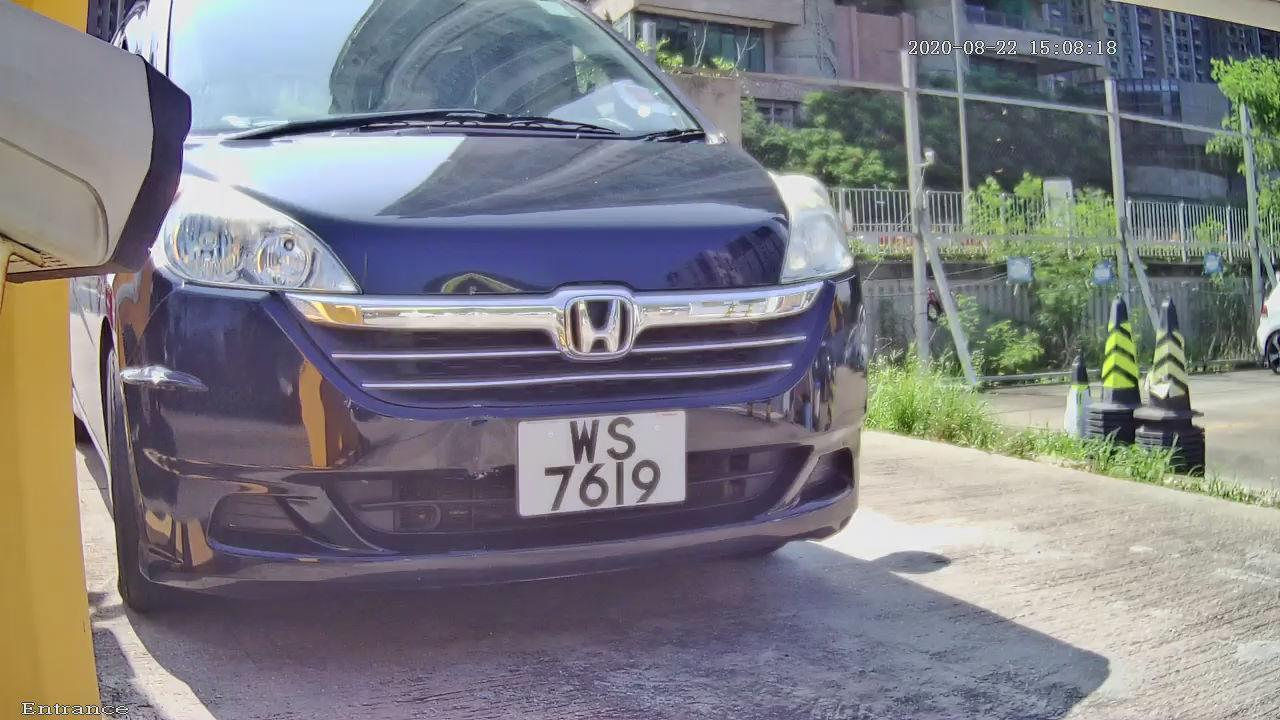Car: (46, 4, 921, 672)
License Plate: (498, 399, 703, 531)
